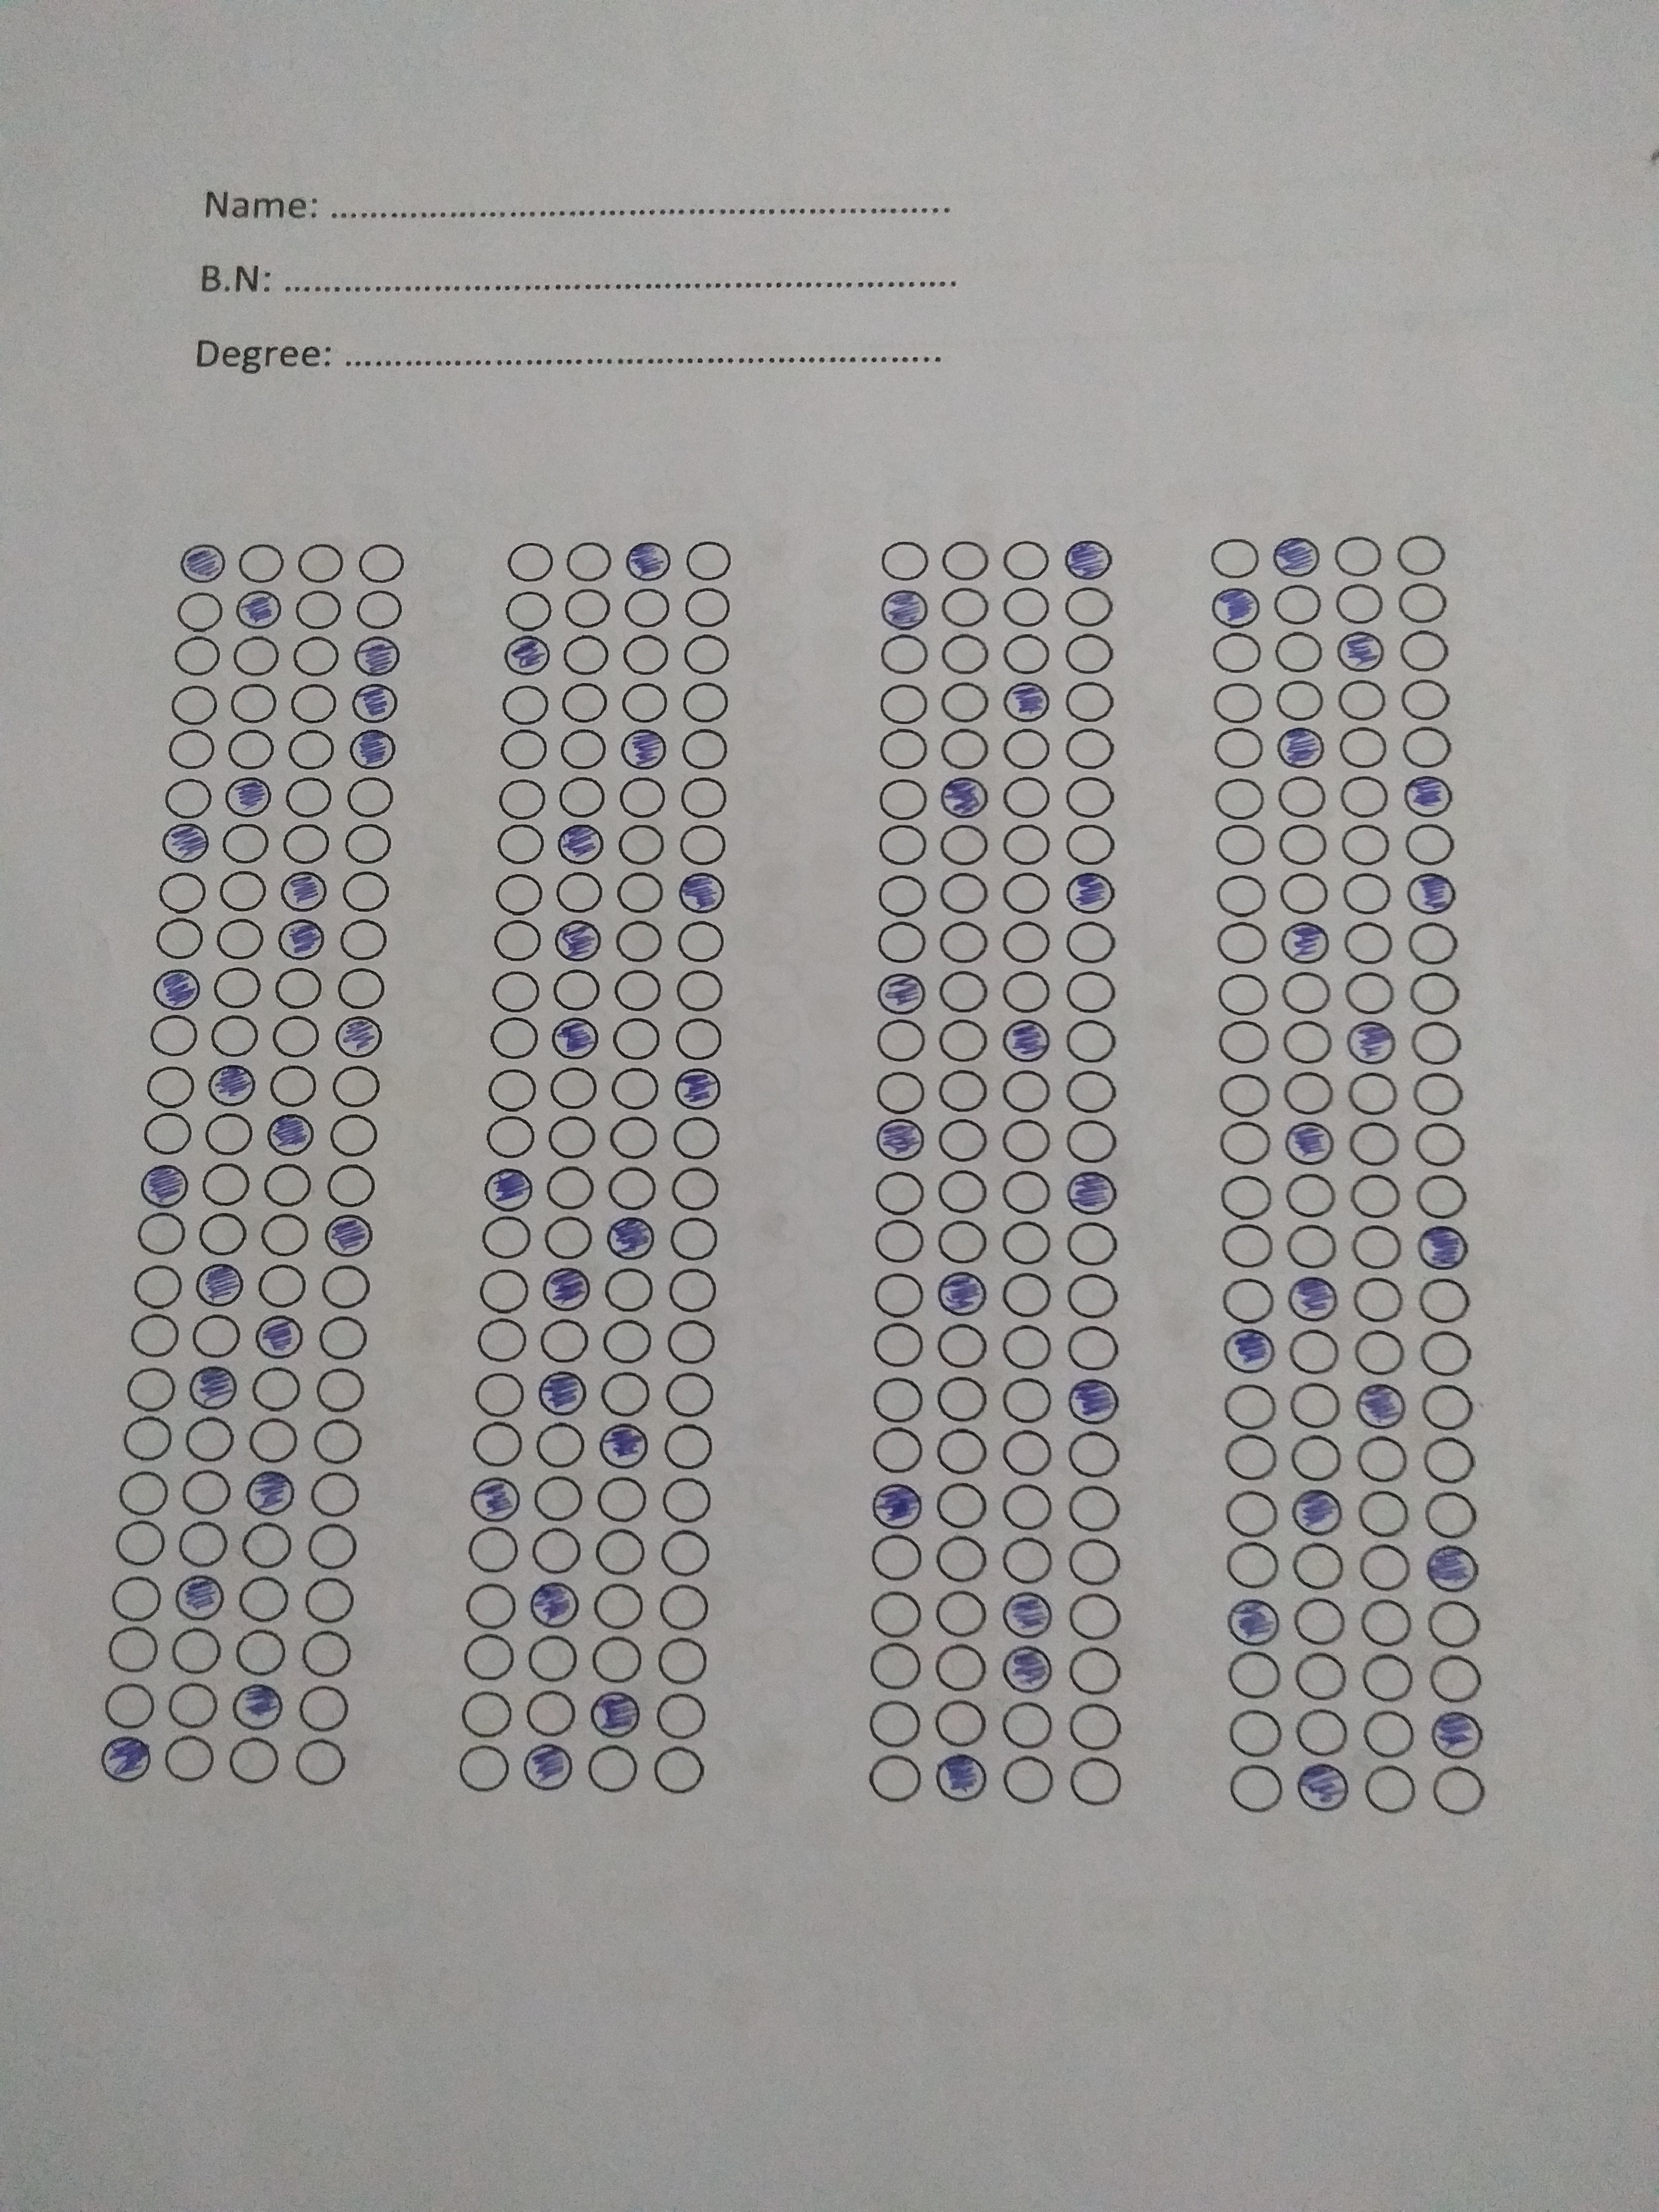not-c: (457, 1742, 512, 1792), (469, 1420, 525, 1470), (594, 1474, 650, 1524), (530, 1474, 586, 1524), (526, 1527, 582, 1578), (655, 1583, 711, 1634), (652, 1691, 708, 1742), (544, 1111, 599, 1162), (544, 1160, 599, 1211), (674, 820, 730, 871), (610, 866, 666, 916), (490, 864, 545, 914), (545, 963, 601, 1014), (488, 963, 544, 1014), (1065, 1757, 1124, 1804), (997, 1702, 1056, 1749), (599, 1369, 653, 1420), (664, 1421, 718, 1472), (532, 1420, 586, 1470), (467, 1580, 521, 1630), (526, 1634, 580, 1684), (650, 1745, 704, 1796), (612, 1014, 666, 1064), (666, 1111, 720, 1162), (490, 914, 544, 965), (671, 967, 725, 1017), (488, 1014, 542, 1064), (612, 963, 666, 1014), (657, 1529, 713, 1578), (589, 1635, 645, 1684), (458, 1688, 514, 1737), (669, 1017, 725, 1066), (544, 1064, 599, 1113), (605, 1163, 660, 1212), (538, 1211, 594, 1259), (477, 1216, 533, 1264), (599, 1318, 655, 1367), (551, 867, 606, 916), (1065, 1703, 1122, 1750), (1065, 1648, 1122, 1695), (1000, 1756, 1058, 1803), (1398, 723, 1455, 770), (476, 1317, 530, 1366), (662, 1371, 716, 1420), (474, 1371, 528, 1420), (659, 1477, 713, 1526), (465, 1527, 519, 1576), (594, 1529, 648, 1578), (591, 1581, 645, 1630), (462, 1634, 516, 1683), (653, 1637, 708, 1686), (525, 1689, 579, 1738), (584, 1743, 638, 1792), (610, 1064, 664, 1113), (484, 1062, 538, 1111), (605, 1115, 659, 1163), (484, 1113, 538, 1162), (667, 1163, 721, 1212), (667, 1216, 721, 1264), (666, 1266, 720, 1315), (603, 1266, 657, 1315), (477, 1264, 532, 1313), (664, 1317, 718, 1366), (537, 1315, 591, 1364), (613, 916, 667, 965), (673, 918, 727, 967), (1351, 1223, 1405, 1271), (1220, 1172, 1274, 1221), (1412, 1071, 1466, 1120), (1288, 1381, 1342, 1430), (1223, 1381, 1277, 1430), (1351, 1275, 1405, 1324), (1223, 1432, 1277, 1480), (1291, 1541, 1345, 1590), (1359, 1653, 1413, 1702), (1392, 531, 1448, 578), (1270, 580, 1323, 629), (1291, 1433, 1344, 1482), (1215, 874, 1269, 921), (1281, 1071, 1335, 1118), (1216, 1071, 1270, 1118), (1277, 1019, 1331, 1066), (1406, 967, 1460, 1014), (1342, 968, 1396, 1015), (1279, 968, 1333, 1015), (1216, 1019, 1270, 1066), (1216, 968, 1270, 1015), (1406, 920, 1460, 967), (1340, 920, 1394, 967), (1222, 1277, 1276, 1324), (1284, 1223, 1338, 1270), (1220, 1223, 1274, 1270), (1413, 1172, 1467, 1219), (1349, 1172, 1403, 1219), (1284, 1170, 1338, 1217), (1412, 1122, 1466, 1169), (1218, 1120, 1272, 1167), (1347, 1069, 1401, 1116), (1420, 1385, 1474, 1432), (1417, 1331, 1471, 1378), (1286, 1327, 1340, 1374), (1417, 1277, 1471, 1324), (1229, 1541, 1283, 1588), (1424, 1491, 1478, 1538), (1358, 1489, 1412, 1536), (1227, 1491, 1281, 1538), (1422, 1437, 1476, 1484), (1356, 1437, 1410, 1484), (1291, 1653, 1345, 1700), (1425, 1599, 1480, 1646), (1359, 1599, 1413, 1646), (1358, 1543, 1412, 1590), (1431, 1766, 1485, 1813), (1363, 1766, 1417, 1813), (1229, 1764, 1283, 1811), (1361, 1709, 1415, 1756), (1295, 1707, 1349, 1754), (1227, 1710, 1281, 1757), (1208, 535, 1263, 580), (1335, 725, 1391, 770), (1330, 535, 1385, 580), (615, 775, 667, 822), (1068, 1484, 1121, 1531), (1412, 1019, 1464, 1066), (1215, 918, 1267, 965), (1340, 869, 1392, 916), (1277, 869, 1330, 916), (1347, 1118, 1399, 1165), (1354, 1329, 1406, 1376), (1229, 1651, 1281, 1698), (1291, 1597, 1344, 1644), (1429, 1655, 1481, 1702), (1403, 822, 1457, 867), (1337, 775, 1391, 820), (1399, 678, 1453, 723), (1274, 678, 1328, 723), (1211, 681, 1265, 726), (1396, 582, 1450, 627), (1276, 773, 1326, 820), (554, 775, 606, 820), (1215, 777, 1267, 822), (1337, 679, 1389, 725), (561, 587, 615, 631), (678, 631, 732, 674), (676, 679, 730, 723), (936, 970, 990, 1014), (936, 920, 990, 963), (875, 921, 929, 965), (1063, 824, 1117, 867), (877, 726, 931, 770), (1000, 585, 1054, 629), (877, 681, 931, 725), (1060, 632, 1114, 676), (999, 634, 1053, 678), (1061, 583, 1115, 627), (877, 540, 931, 583), (934, 1169, 988, 1212), (999, 1118, 1053, 1162), (1063, 1069, 1117, 1113), (997, 1068, 1051, 1111), (1063, 970, 1117, 1014), (936, 1376, 990, 1420), (1065, 1273, 1119, 1317), (934, 1324, 988, 1367), (870, 1273, 924, 1317), (934, 1646, 988, 1689), (866, 1702, 920, 1745), (866, 1644, 920, 1688), (868, 1592, 922, 1635), (999, 1538, 1053, 1581), (934, 1538, 988, 1581), (868, 1534, 922, 1578), (1276, 822, 1330, 866), (1215, 726, 1265, 772), (279, 819, 331, 862), (343, 777, 396, 820), (209, 965, 261, 1008), (216, 869, 268, 913), (218, 822, 270, 866), (227, 681, 279, 725), (164, 728, 216, 772), (354, 589, 406, 632), (291, 589, 343, 632), (296, 542, 349, 585), (261, 1162, 314, 1205), (199, 1162, 251, 1205), (329, 1064, 382, 1108), (268, 1064, 321, 1108), (335, 967, 387, 1010), (274, 967, 326, 1010), (162, 1737, 214, 1780), (296, 1686, 349, 1730), (298, 1632, 350, 1676), (234, 1630, 286, 1674), (240, 1522, 293, 1566), (312, 1420, 364, 1463), (317, 1315, 369, 1359), (183, 1418, 235, 1461), (124, 1366, 176, 1409), (558, 679, 610, 723), (681, 538, 734, 582), (622, 632, 674, 676), (559, 634, 612, 678), (619, 679, 671, 723), (505, 540, 558, 583), (620, 585, 673, 629), (1063, 920, 1115, 963), (999, 920, 1051, 963), (877, 822, 929, 866), (1063, 775, 1115, 819), (1000, 777, 1053, 820), (1063, 726, 1115, 770), (938, 726, 990, 770), (938, 681, 990, 725), (938, 631, 990, 674), (878, 631, 931, 674), (939, 585, 992, 629), (873, 1219, 925, 1263), (1065, 1118, 1117, 1162), (936, 1118, 988, 1162), (936, 1069, 988, 1113), (873, 1069, 925, 1113), (1063, 1019, 1115, 1062), (875, 1019, 927, 1062), (870, 1378, 922, 1421), (1066, 1325, 1119, 1369), (1000, 1325, 1053, 1369), (999, 1221, 1051, 1264), (934, 1219, 986, 1263), (934, 1702, 986, 1745), (870, 1756, 922, 1799), (934, 1592, 986, 1635), (1002, 1484, 1054, 1527), (932, 1484, 985, 1527), (1068, 1432, 1121, 1475), (934, 1430, 986, 1474), (1398, 629, 1450, 672), (1211, 632, 1263, 676), (493, 777, 547, 819), (491, 822, 545, 864), (505, 587, 559, 629), (934, 873, 988, 914), (999, 871, 1053, 913), (875, 876, 929, 918), (999, 730, 1053, 772), (936, 540, 990, 582), (999, 1170, 1053, 1212), (934, 1019, 988, 1061), (999, 1379, 1053, 1421), (870, 1324, 924, 1366), (999, 1273, 1053, 1315), (1066, 1594, 1121, 1635), (1065, 1541, 1119, 1583), (1000, 1432, 1054, 1474), (680, 726, 728, 772), (680, 775, 728, 820), (1335, 582, 1384, 627), (235, 542, 286, 585), (293, 1740, 343, 1784), (342, 869, 392, 913), (282, 775, 333, 819), (288, 726, 338, 770), (289, 683, 340, 726), (291, 634, 342, 678), (223, 728, 274, 772), (148, 1014, 199, 1057), (153, 918, 204, 961), (159, 871, 209, 914), (167, 683, 218, 726), (173, 634, 223, 678), (354, 540, 404, 583), (326, 1165, 376, 1209), (329, 1113, 380, 1157), (145, 1066, 195, 1109), (270, 1015, 321, 1059), (209, 1014, 260, 1057), (303, 1578, 354, 1622), (239, 1576, 289, 1620), (305, 1524, 355, 1568), (321, 1264, 371, 1308), (308, 1472, 359, 1515), (247, 1420, 298, 1463), (315, 1367, 366, 1411), (171, 1629, 221, 1672), (179, 1470, 230, 1514), (190, 1315, 240, 1359), (105, 1684, 155, 1728), (106, 1627, 157, 1670), (110, 1576, 160, 1620), (115, 1521, 166, 1564), (117, 1472, 167, 1515), (124, 1416, 174, 1460), (134, 1264, 185, 1308), (498, 726, 549, 770), (1216, 824, 1267, 867), (213, 918, 265, 960), (336, 920, 389, 961), (249, 1367, 301, 1409), (127, 1315, 179, 1357), (227, 1740, 279, 1782), (680, 585, 732, 627), (561, 540, 613, 582), (1000, 824, 1053, 866), (875, 777, 927, 819), (939, 826, 992, 867), (1061, 681, 1114, 723), (1000, 538, 1053, 580), (873, 1172, 925, 1214), (999, 970, 1051, 1012), (1065, 1223, 1117, 1264), (870, 1428, 922, 1470), (1274, 632, 1326, 674), (613, 824, 667, 864), (559, 726, 608, 770), (342, 824, 392, 866), (230, 636, 281, 678), (160, 779, 211, 820), (173, 589, 223, 631), (136, 1212, 186, 1254), (202, 1113, 253, 1155), (143, 1111, 193, 1153), (256, 1266, 307, 1308), (167, 1684, 218, 1726), (176, 1522, 227, 1564), (261, 1214, 312, 1256), (197, 1212, 247, 1254), (500, 683, 551, 725), (1338, 824, 1389, 866)
taken-c: (1427, 1709, 1485, 1761), (1424, 1543, 1481, 1594), (521, 1740, 575, 1792), (1415, 1221, 1471, 1271), (1354, 1379, 1406, 1432), (934, 1268, 988, 1318), (469, 1474, 521, 1524), (589, 1689, 641, 1740), (234, 1683, 286, 1733), (176, 1571, 227, 1623), (936, 1752, 988, 1803), (1297, 1763, 1349, 1813), (1229, 1595, 1281, 1646), (535, 1369, 589, 1418), (99, 1735, 153, 1784), (1065, 1169, 1119, 1217), (1066, 1376, 1121, 1425), (1284, 1275, 1340, 1322), (530, 1578, 580, 1629), (1002, 1644, 1053, 1695), (598, 1421, 650, 1470), (873, 1482, 925, 1531), (1002, 1590, 1054, 1639), (1291, 1487, 1344, 1536), (1222, 1327, 1276, 1374), (265, 1109, 315, 1158), (139, 1162, 190, 1211), (324, 1211, 375, 1259), (244, 1470, 296, 1517), (186, 1364, 239, 1411), (1065, 871, 1117, 918), (1000, 1017, 1053, 1064), (176, 538, 227, 585), (484, 1165, 535, 1212), (254, 1315, 305, 1362), (875, 1115, 925, 1162), (1284, 1120, 1335, 1167), (1279, 920, 1330, 967), (617, 725, 669, 770), (1063, 536, 1115, 582), (1208, 585, 1262, 629), (335, 1014, 383, 1061), (558, 820, 606, 867), (606, 1212, 653, 1261), (195, 1261, 244, 1308), (671, 1066, 721, 1111), (877, 970, 927, 1015), (1403, 775, 1453, 820), (938, 775, 990, 819), (349, 726, 397, 772), (162, 820, 211, 866), (279, 869, 328, 914), (277, 916, 326, 961), (153, 967, 202, 1012), (207, 1062, 256, 1108), (551, 1014, 599, 1059), (624, 538, 673, 583), (542, 1266, 591, 1312), (1002, 678, 1051, 723), (1347, 1021, 1396, 1066), (1406, 871, 1455, 916), (1277, 725, 1326, 770), (504, 634, 554, 678), (1270, 535, 1321, 578), (350, 681, 399, 725), (225, 775, 274, 819), (554, 920, 603, 963), (1337, 629, 1385, 672), (354, 636, 401, 679), (235, 587, 284, 629), (880, 589, 929, 631)
